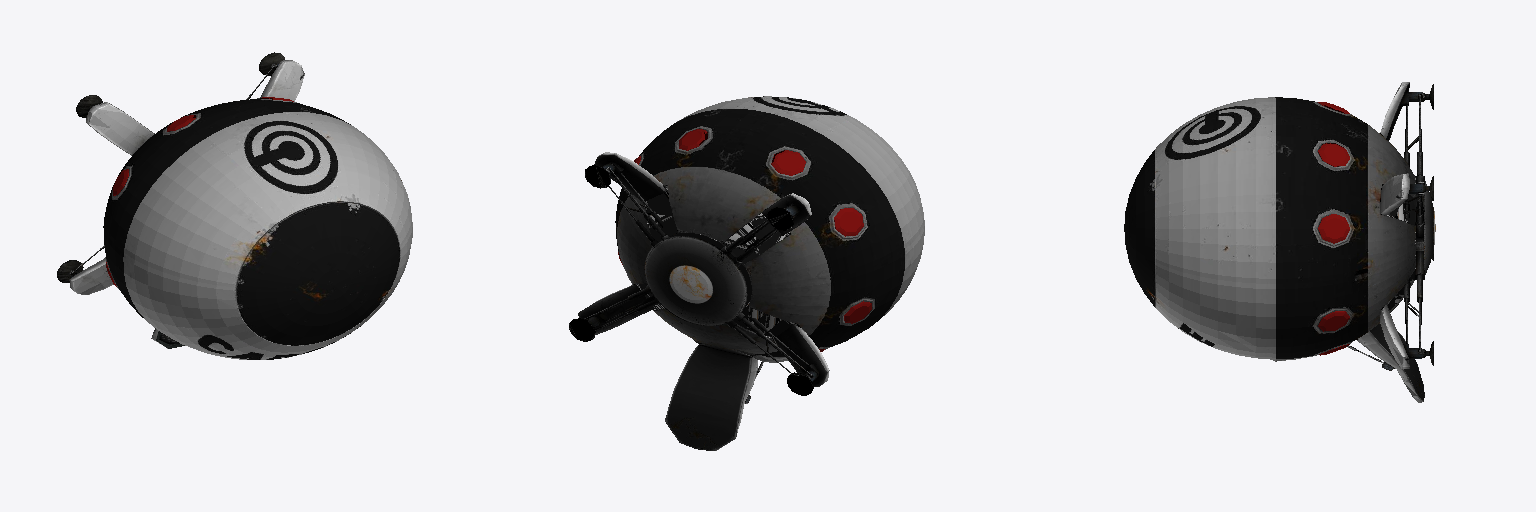
The picture shows the model from 3 angles: view 1: azimuth 30°, elevation 25°; view 2: azimuth 150°, elevation 25°; view 3: azimuth 270°, elevation 25°; orthographic projection.
Visible parts, largest first — view 1: Object.16, Object.14, Object.15, Object.13; view 2: Object.16, Object.20, Object.11, Object.13, Object.15, Object.12, Object.14, Object.5, Object.6; view 3: Object.16, Object.12, Object.15, Object.14, Object.11, Object.20, Object.9, Object.10.
Part boxes in pixels (x1,y1,x2,y2): Object.16: (103,98,412,359); Object.14: (76,95,154,155); Object.15: (246,52,304,101); Object.13: (57,245,113,294); Object.16: (615,96,924,356); Object.20: (644,236,747,325); Object.11: (665,345,757,450); Object.13: (725,313,829,395); Object.15: (585,152,668,247); Object.12: (569,284,660,341); Object.14: (721,193,811,266); Object.5: (834,208,863,236); Object.6: (771,150,805,175); Object.16: (1124,97,1415,359); Object.12: (1380,251,1433,368); Object.15: (1380,173,1433,237); Object.14: (1380,82,1433,183); Object.11: (1357,324,1424,402); Object.20: (1416,179,1435,275); Object.9: (1318,214,1349,243); Object.10: (1318,143,1349,166).
Bounding box in the file's own units: 0.9984 × 0.9984 × 0.9984.
Materials: 10 (10 with a texture image).